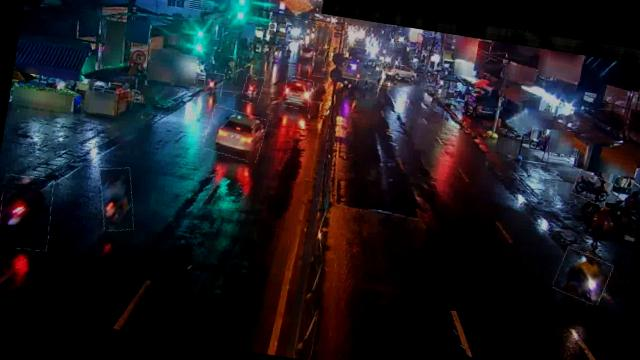Bike: (0, 172, 56, 252), (552, 248, 612, 304), (94, 164, 140, 233), (571, 170, 613, 204), (241, 73, 264, 104), (203, 71, 224, 97), (223, 56, 240, 82)
Car: (203, 105, 268, 161), (282, 75, 314, 110)
